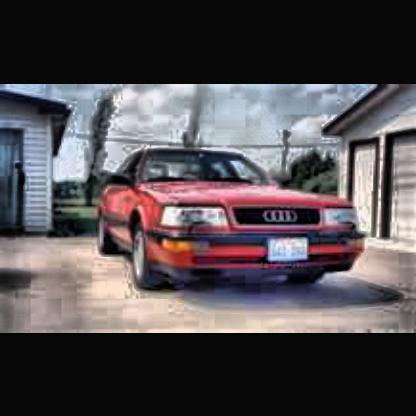Audi V8 Sedan 1994: (95, 150, 365, 293)
